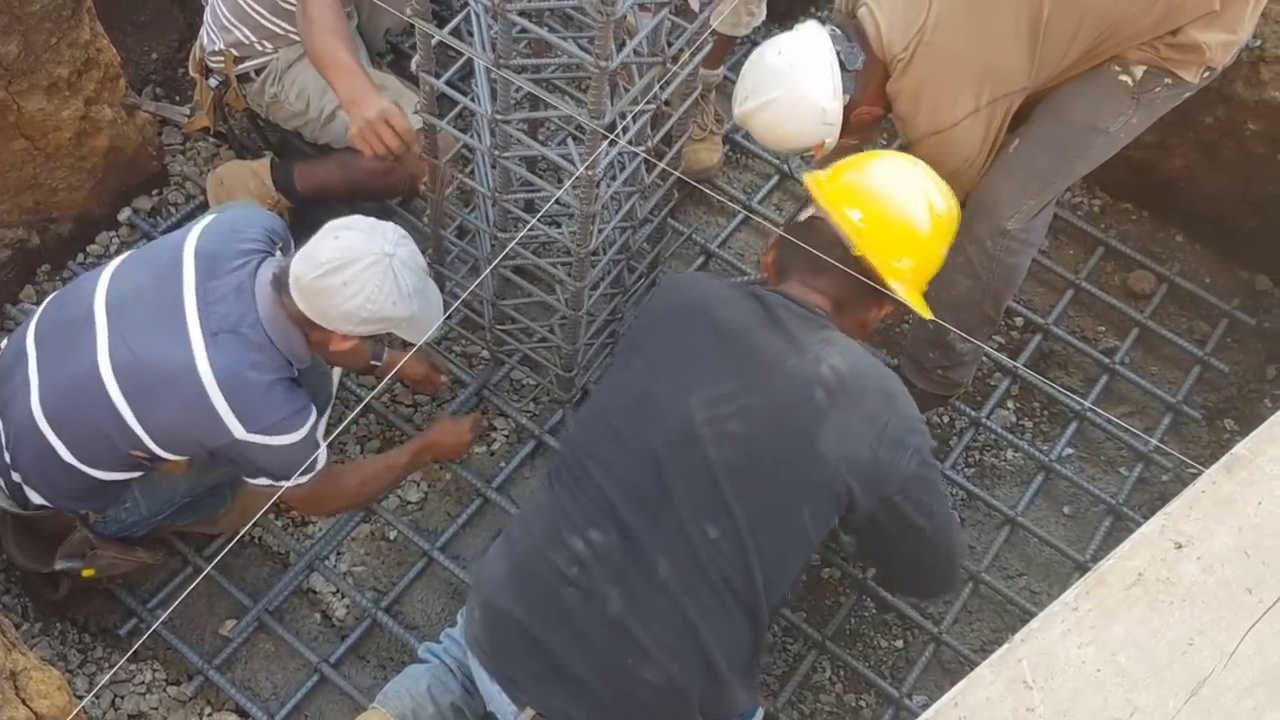helmet: (803, 140, 958, 314), (735, 18, 845, 153)
helmet-off: (279, 219, 445, 379)
helmet-on: (758, 138, 962, 342), (733, 8, 897, 154)
person: (352, 135, 966, 719), (729, 0, 1270, 412), (2, 196, 477, 573), (173, 0, 440, 209)
